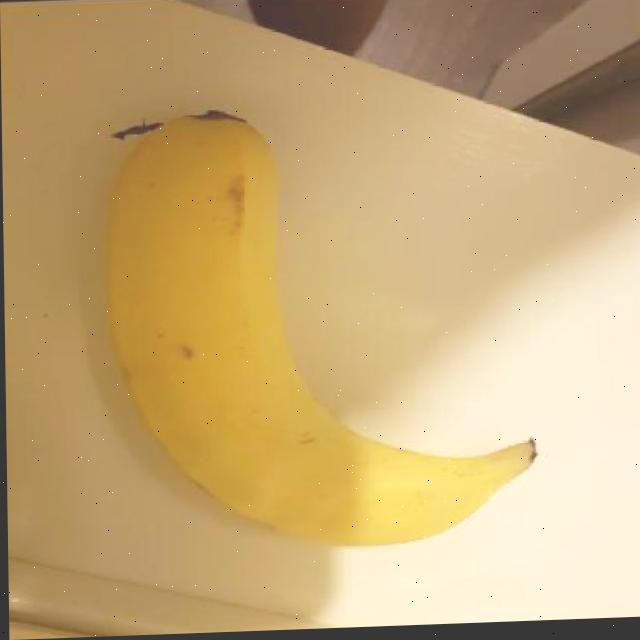banana: (84, 76, 544, 570)
